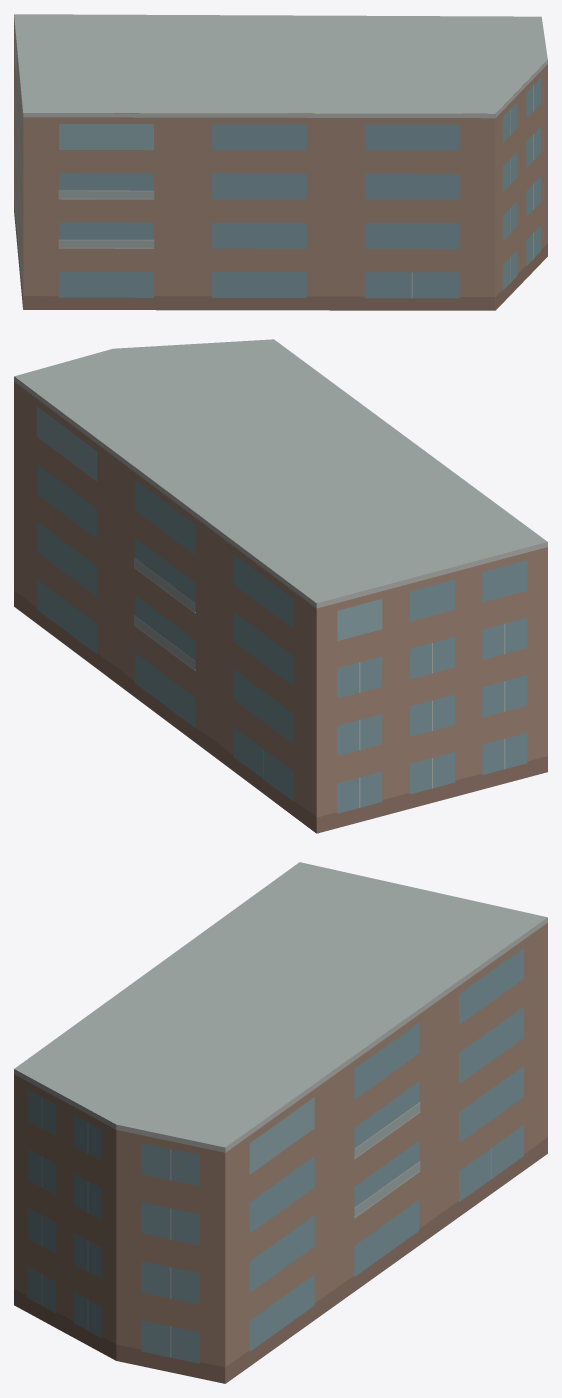
Rendered from survey-upis-32918633.glb.
3 views of the same model, one above another, from view 1: azimuth 30°, elevation 25°; view 2: azimuth 150°, elevation 25°; view 3: azimuth 270°, elevation 25° (orthographic). The views are drawn at different scales.
Parts seen in each view (by area): view 1: survey-upis-32918633.tmp; view 2: survey-upis-32918633.tmp; view 3: survey-upis-32918633.tmp.
Boxes of the visible parts, x1,y1,x2,y2 form: survey-upis-32918633.tmp: (14, 14, 547, 310); survey-upis-32918633.tmp: (14, 339, 547, 833); survey-upis-32918633.tmp: (14, 862, 547, 1383).
Size of the model in its own units: 28.51 by 11 by 22.53.
